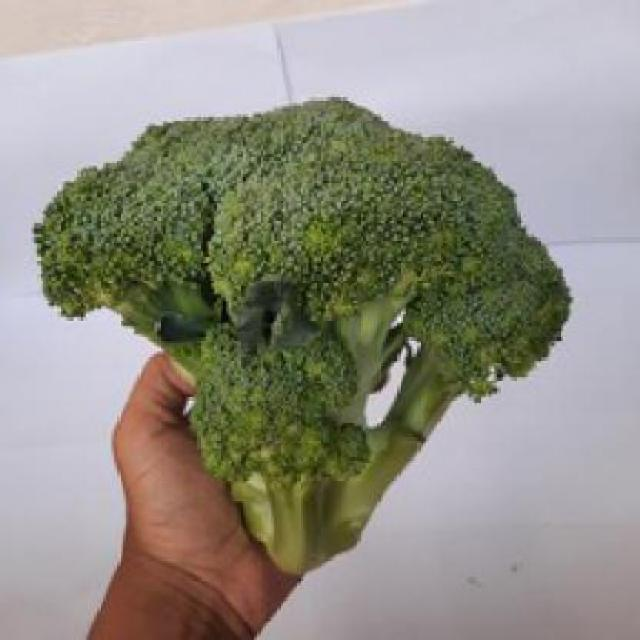broccoli: (53, 103, 570, 572)
